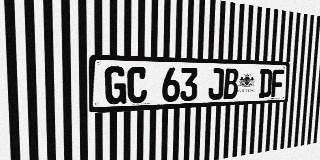3: (180, 67, 198, 101)
6: (162, 67, 180, 102)
B: (223, 68, 239, 99)
C: (127, 67, 147, 104)
D: (259, 69, 272, 98)
F: (271, 69, 284, 97)
G: (105, 66, 126, 105)
J: (208, 68, 224, 100)
